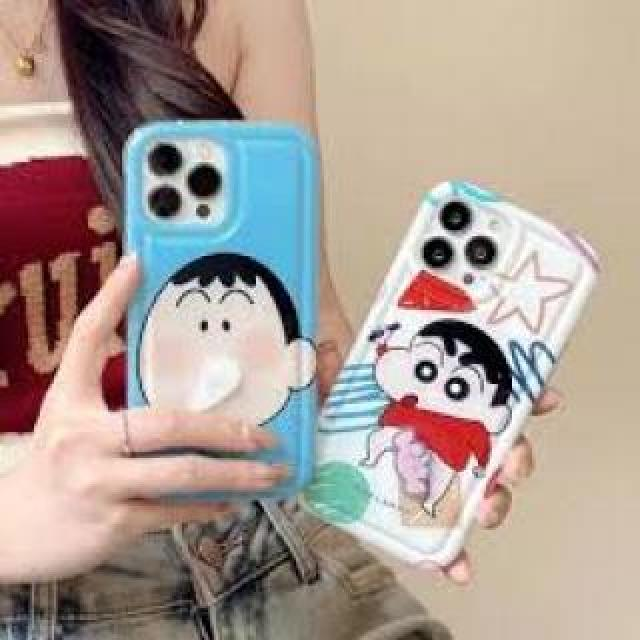smart phone: (346, 177, 602, 575), (100, 106, 315, 496)
